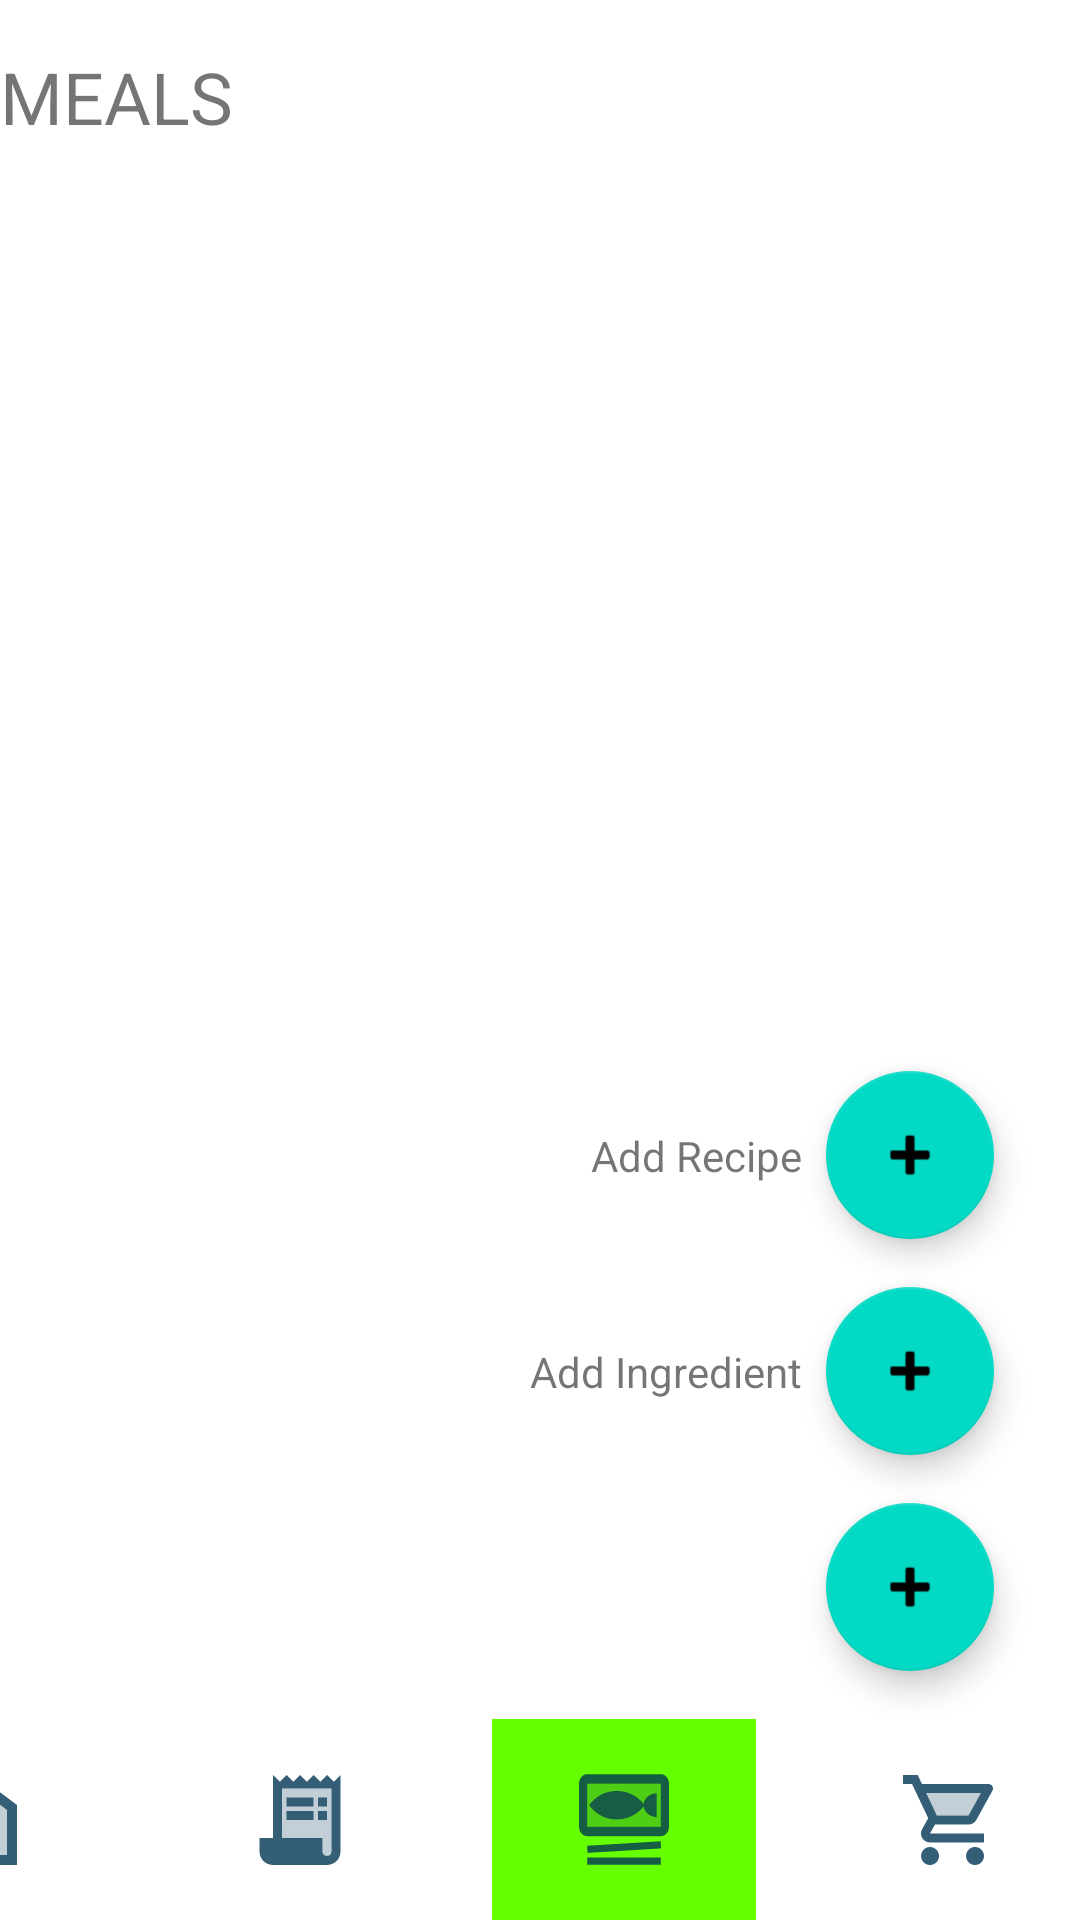

Icon click points for this 1080px×1920px phone screenshot, format [x,y]:
Add MealPlan Button: [910,1587]
Add MealPlan Ingredient Button: [910,1371]
Add MealPlan Recipe: [910,1155]
Go To Meal Plans: [624,1819]
Go To Recipes: [300,1820]
Go To Shopping List: [948,1820]
